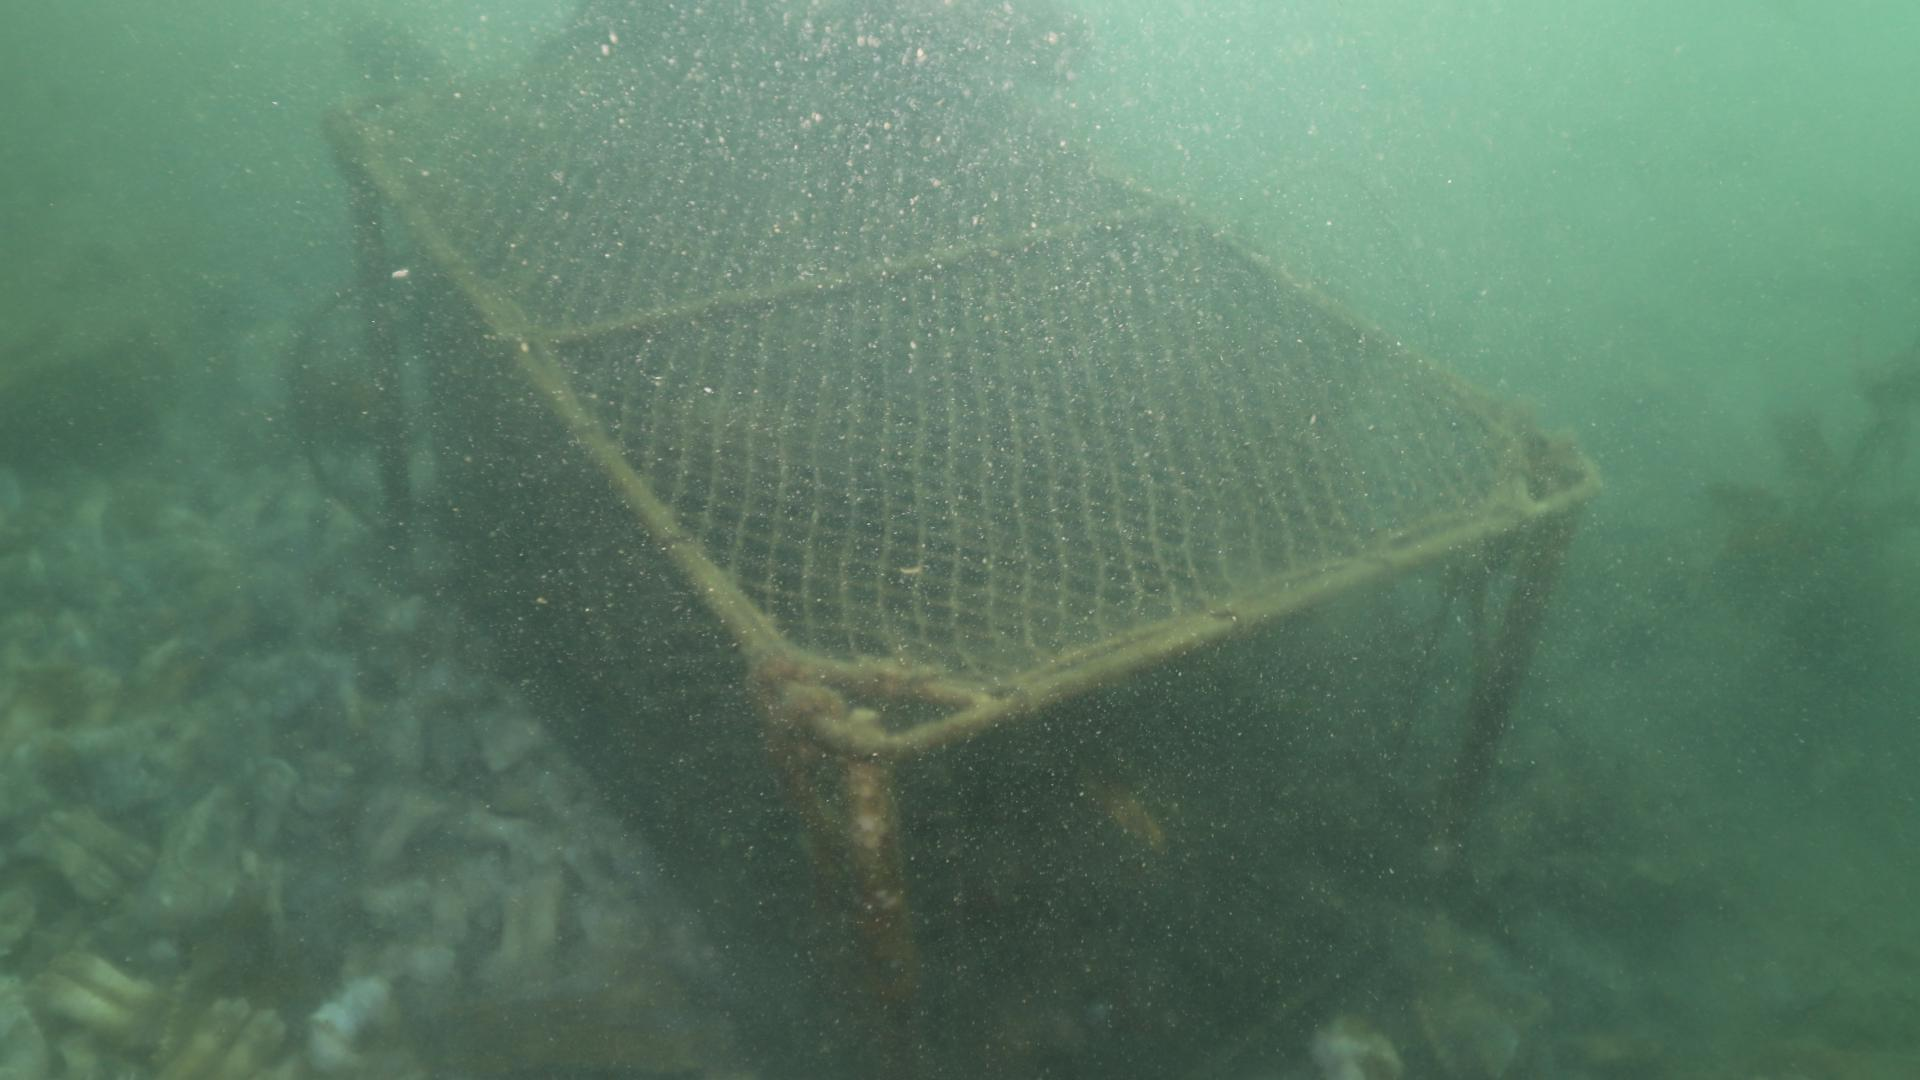rectangular fish trap: (319, 30, 1596, 1080)
